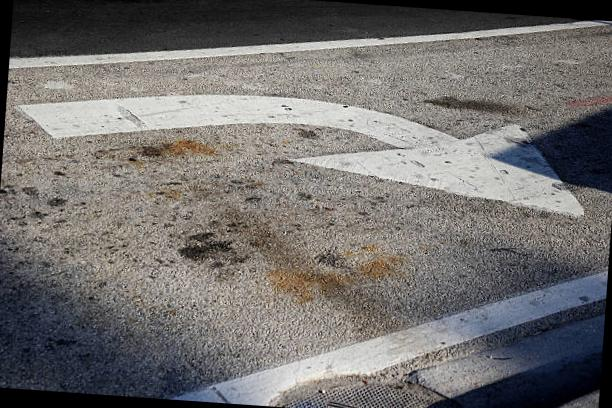faded_road_lines: (10, 74, 591, 218)
